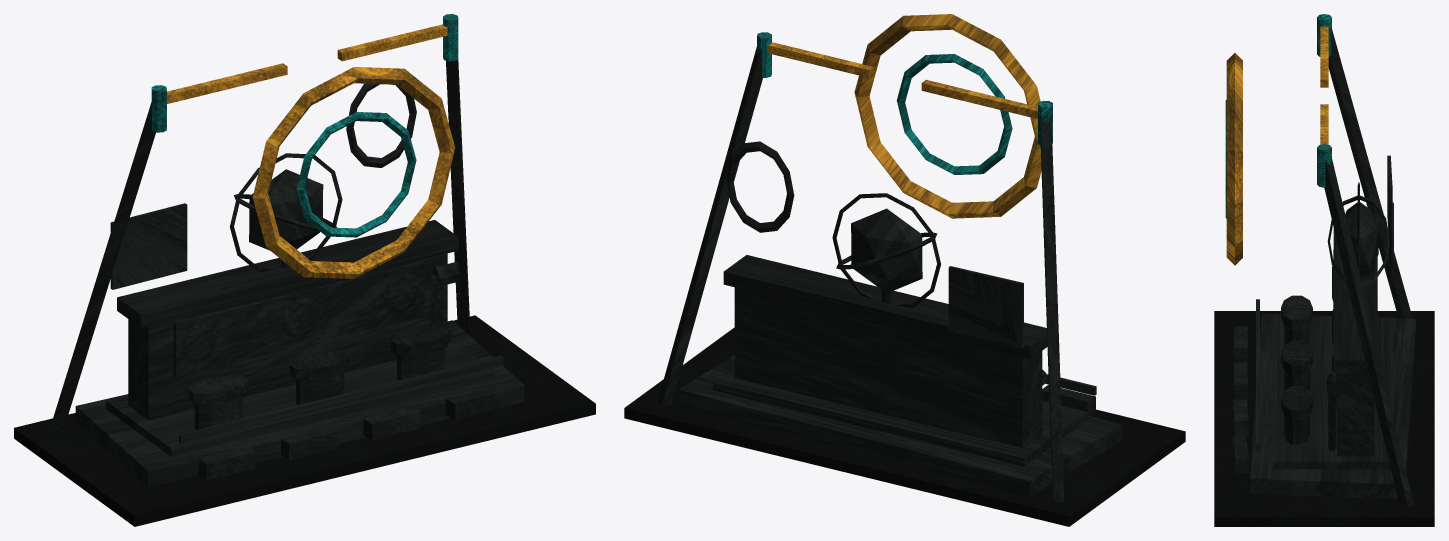
The model's file is archive-entry-gate.glb.
3 views of the same model, side by side, from view 1: azimuth 30°, elevation 25°; view 2: azimuth 150°, elevation 25°; view 3: azimuth 270°, elevation 25° (orthographic). The views are drawn at different scales.
Parts seen in each view (by area): view 1: archive-entry-gate; view 2: archive-entry-gate; view 3: archive-entry-gate.
Boxes of the visible parts, x1,y1,x2,y2 form: archive-entry-gate: [14, 14, 595, 526]; archive-entry-gate: [624, 14, 1185, 526]; archive-entry-gate: [1214, 14, 1434, 526].
Size of the model in its own units: 10.6 by 8.69 by 4.8.
1 material, 1 textured.
